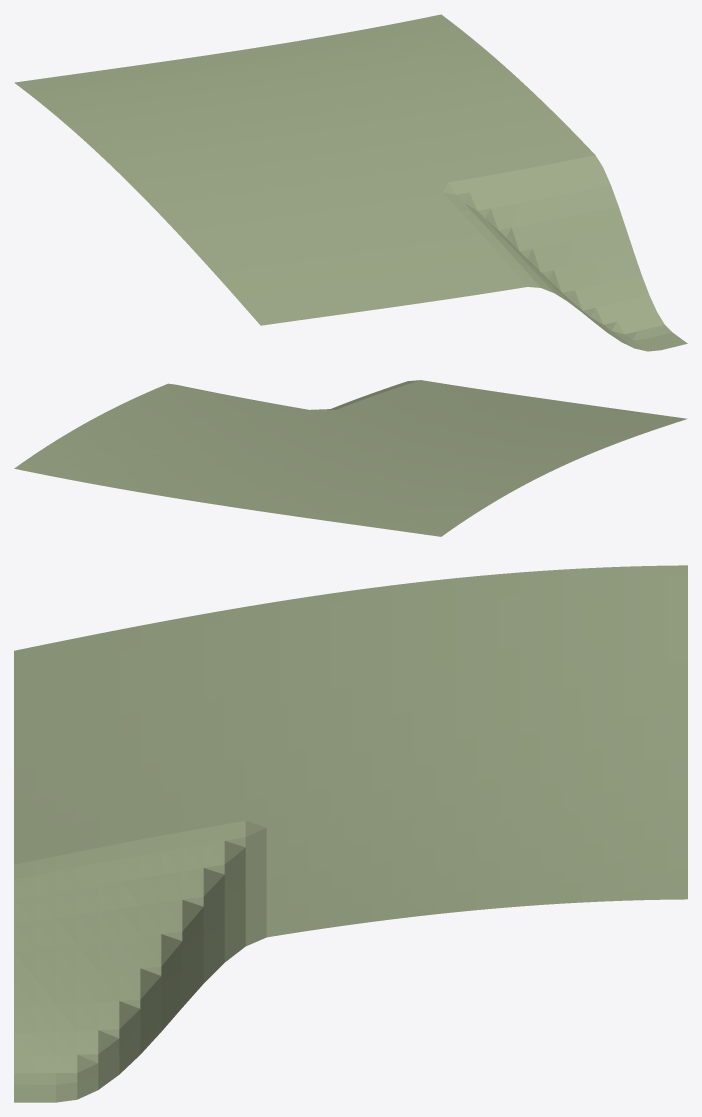
The model's file is valley-12-1.glb.
3 renders of one model, top to bottom at view 1: azimuth 30°, elevation 25°; view 2: azimuth 150°, elevation 25°; view 3: azimuth 270°, elevation 25°, orthographic. The views are drawn at different scales.
Parts seen in each view (by area): view 1: valley-12-1; view 2: valley-12-1; view 3: valley-12-1.
Part boxes in pixels (x1,y1,x2,y2): valley-12-1: [14, 14, 687, 351]; valley-12-1: [14, 380, 687, 536]; valley-12-1: [14, 565, 687, 1102].
Size of the model in its own units: 256 by 106 by 256.
